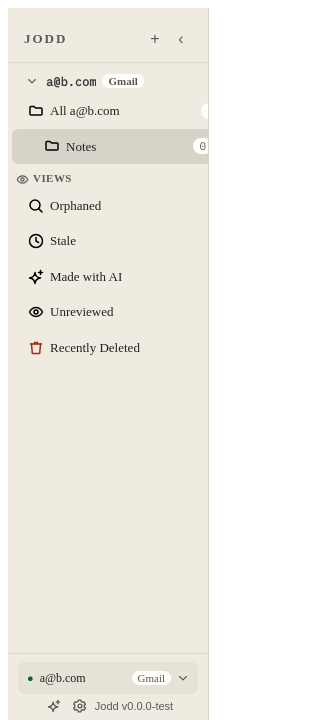
Test case: a stale flow finishing late does not clobber the newer flow
The image size is (320, 720).
Step 1. Click the button "● a@b.com Gmail" → (108, 678), box 18,662 -> 198,694
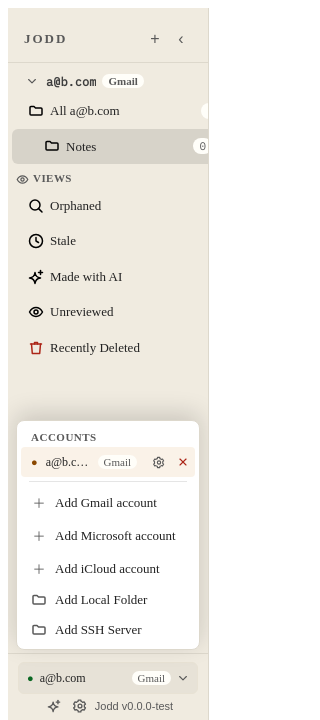
Step 2. Click the button with class "account-panel-action" showing "Add Local Folder" → (108, 600), box 21,585 -> 195,615
Wait 2100 ms
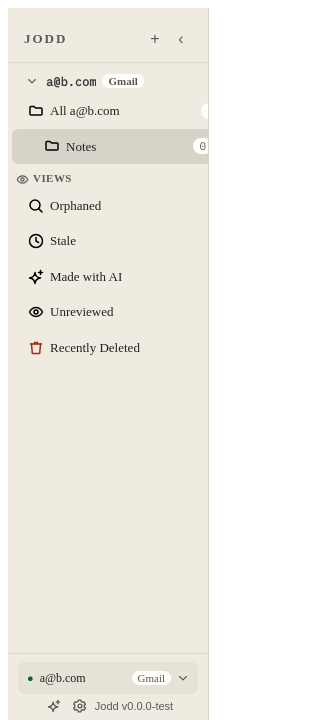
Step 3. Click the button "● a@b.com Gmail" → (108, 678), box 18,662 -> 198,694
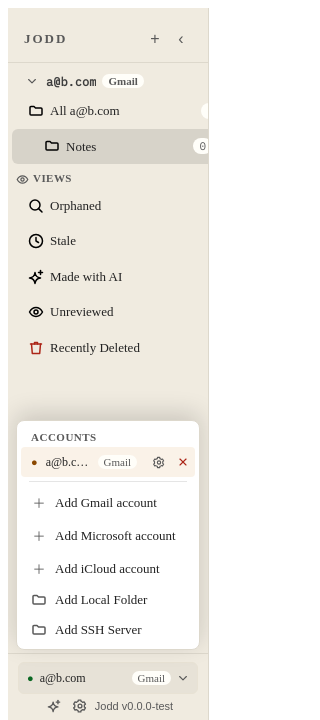
Step 4. Click the button with class "account-panel-action" showing "Add Local Folder" → (108, 600), box 21,585 -> 195,615
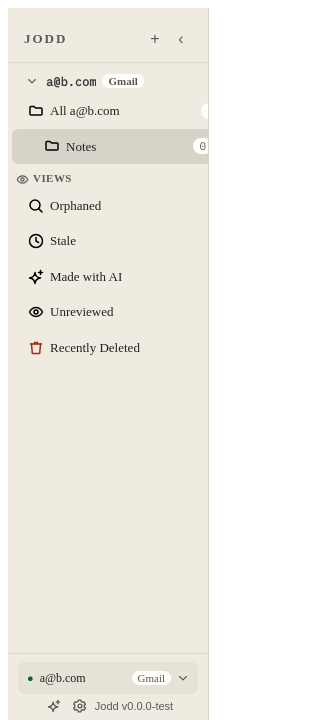
Step 5. Click the button "● a@b.com Gmail" → (108, 678), box 18,662 -> 198,694
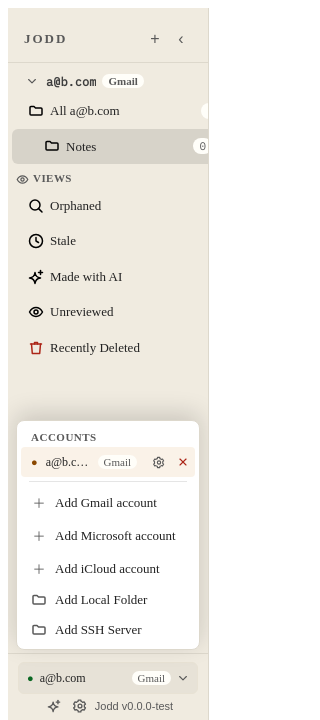
Result: the button with class "account-panel-action" showing "Add Local Folder" is disabled at 21,585 -> 195,615
